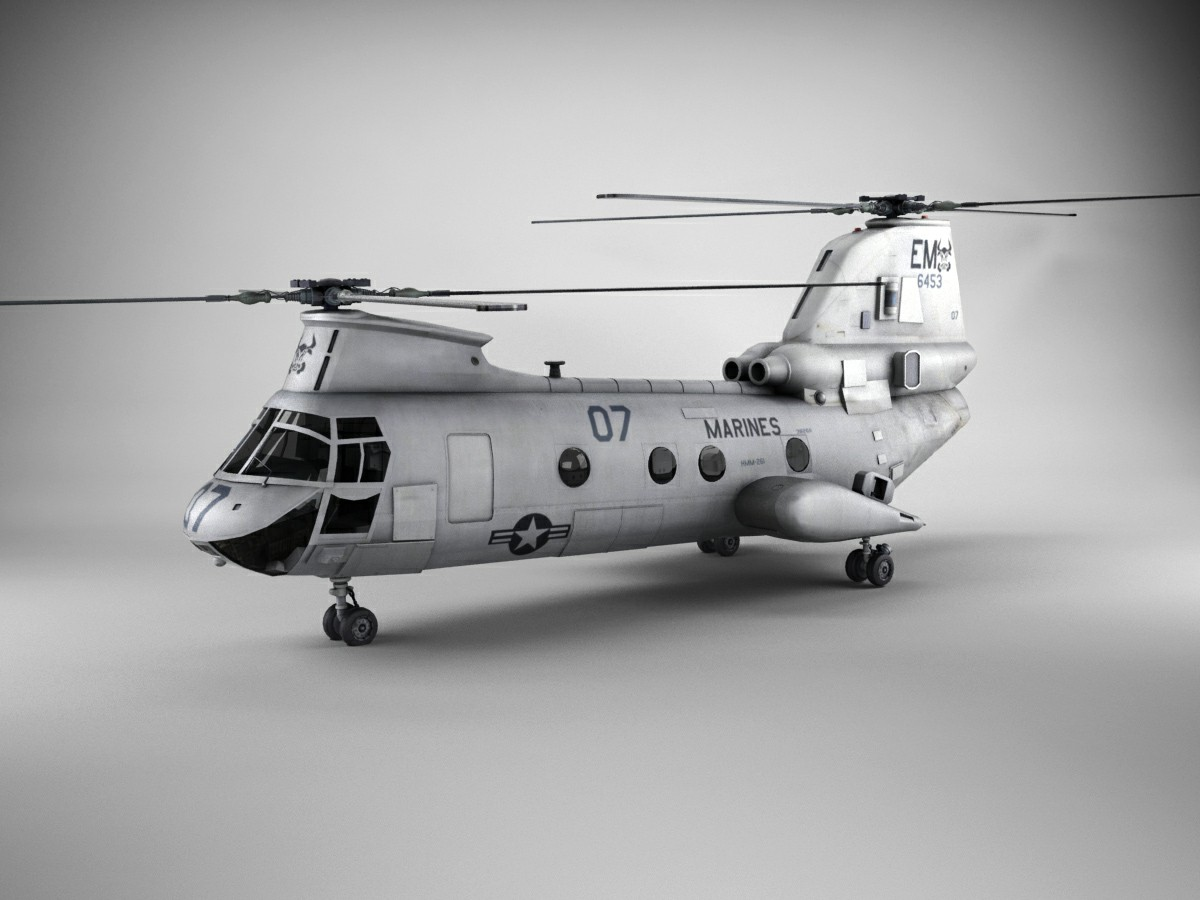chinook: (173, 188, 1151, 640)
